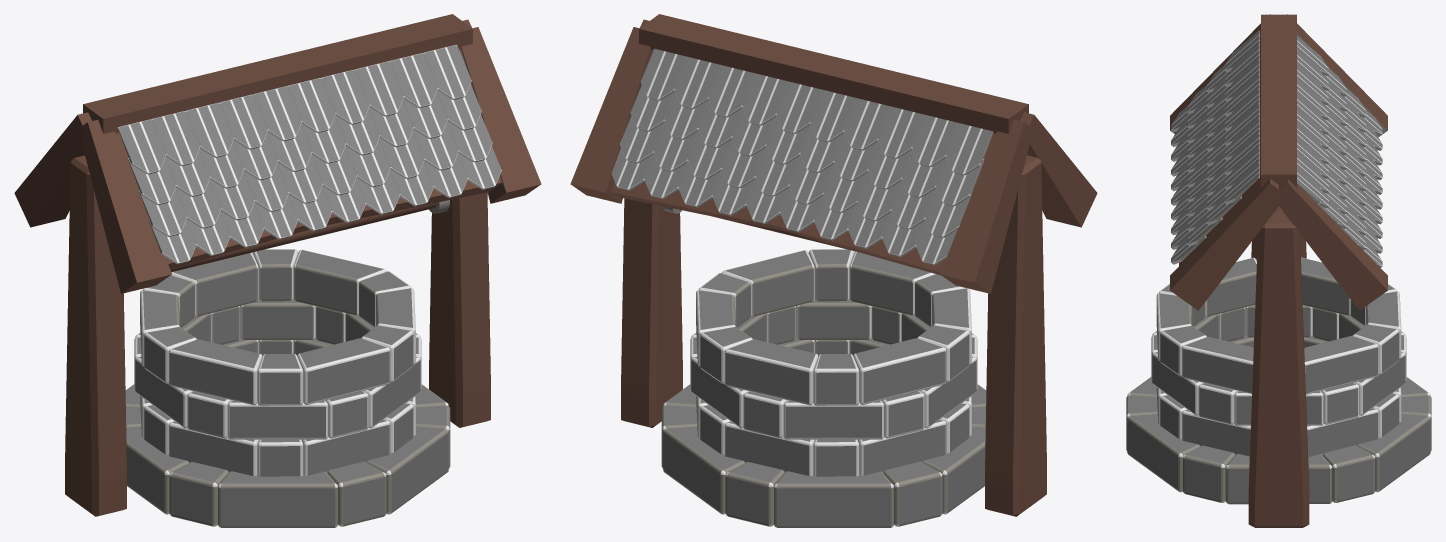
The model's file is WellDesert.fbx.
The picture shows the model from 3 angles, left to right: view 1: azimuth 30°, elevation 25°; view 2: azimuth 150°, elevation 25°; view 3: azimuth 270°, elevation 25°; orthographic projection. The views are drawn at different scales.
Visible parts, largest first — view 1: Cube; view 2: Cube; view 3: Cube.
Boxes of the visible parts, x1,y1,x2,y2 form: Cube: [14, 14, 541, 527]; Cube: [570, 14, 1097, 527]; Cube: [1126, 14, 1431, 527].
Bounding box in the file's own units: 2300 × 2136 × 1695.
